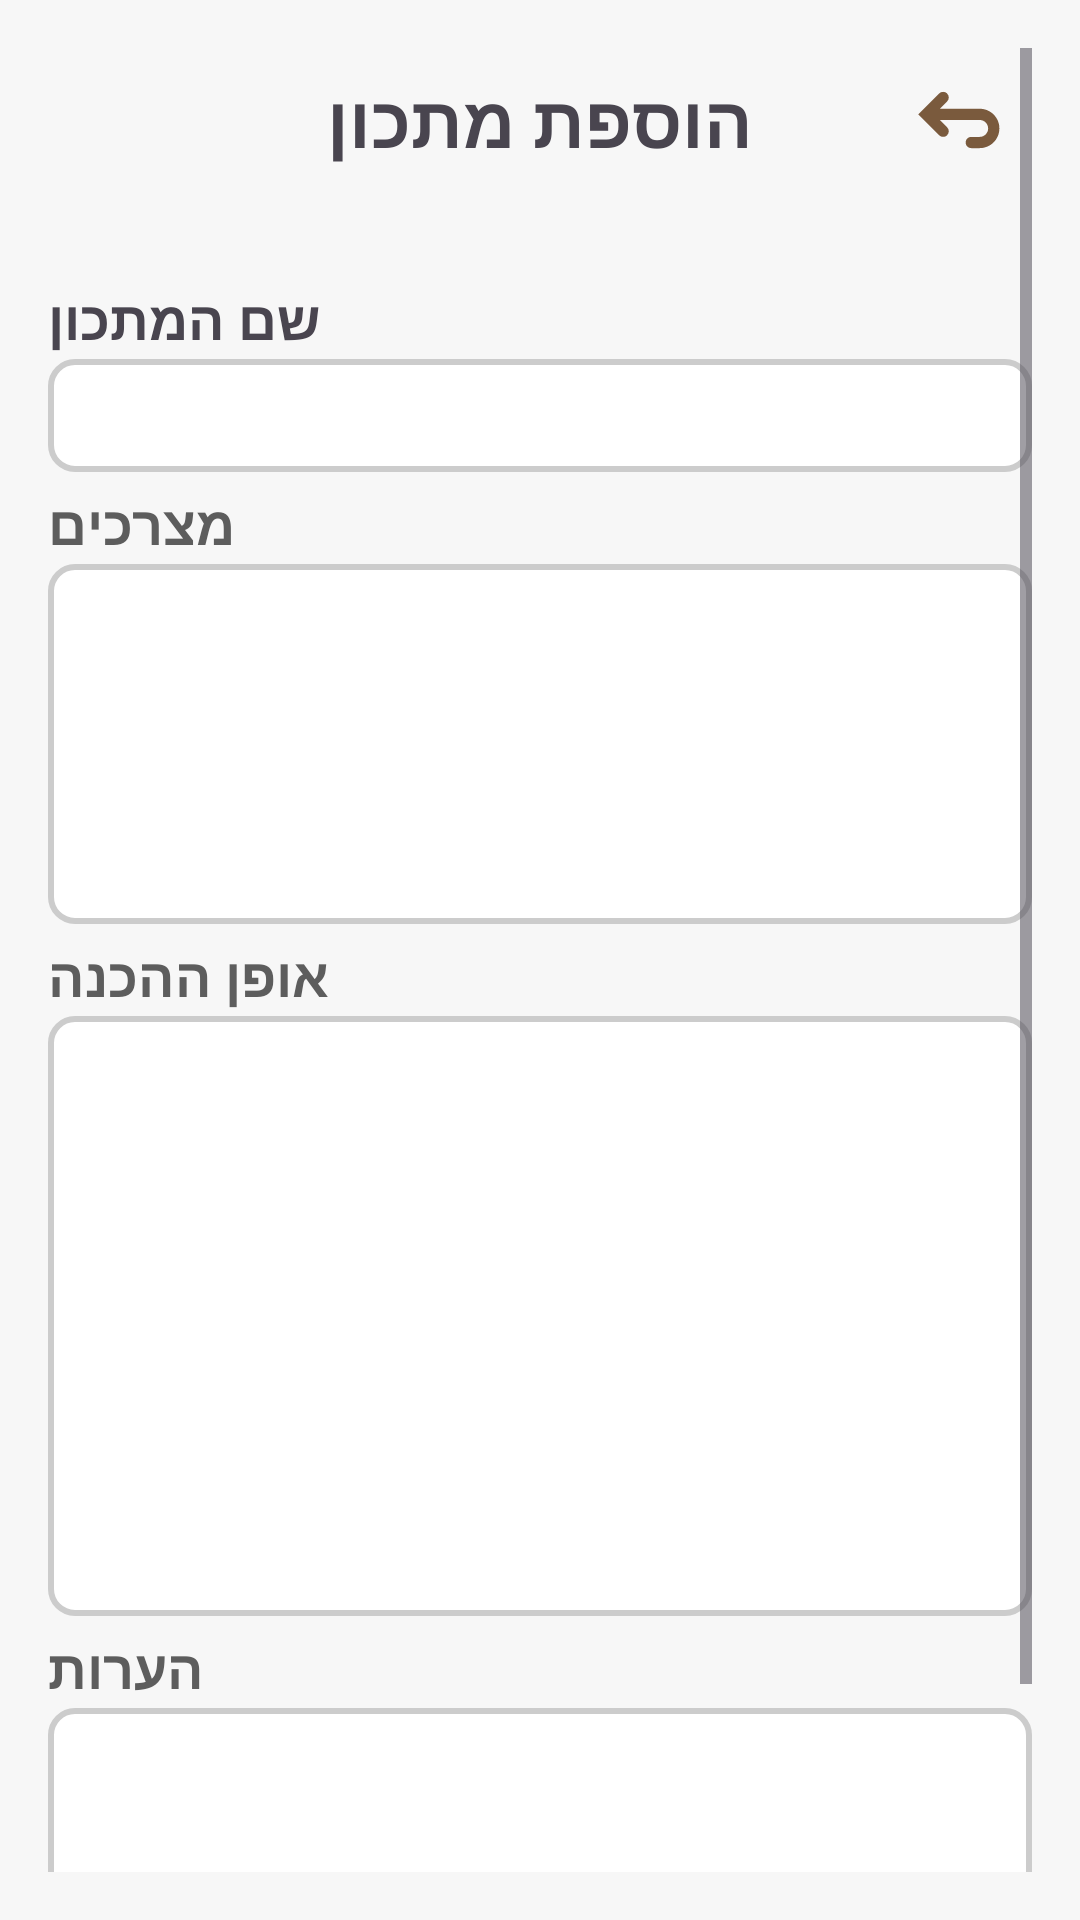

Icon bounding boxes for this 1080x1920 phone screenshot, format region(x1, y1, x2, y2):
go back: region(918, 92, 1000, 149)
